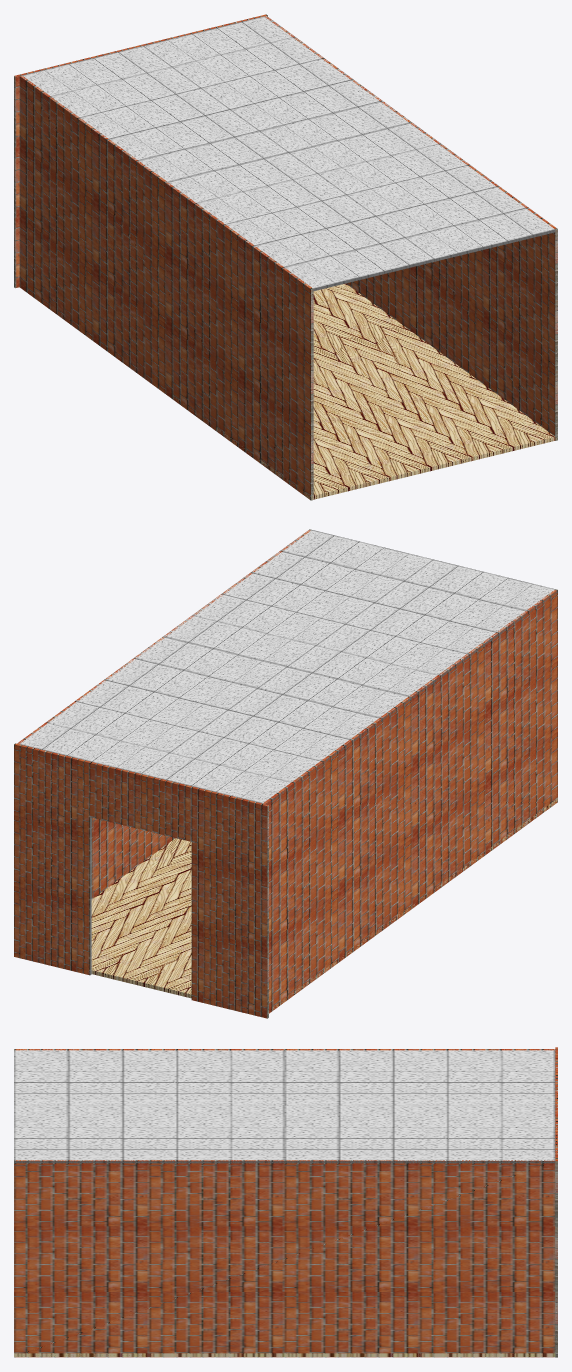
Rendered from Hallway_DoorWay.fbx.
3 renders of one model, top to bottom at view 1: azimuth 30°, elevation 25°; view 2: azimuth 150°, elevation 25°; view 3: azimuth 270°, elevation 25°, orthographic. The views are drawn at different scales.
Parts seen in each view (by area): view 1: pasted__Floor2, pasted__Wall1, pasted__Floor1, pasted__Wall2, pasted__Wall3; view 2: pasted__Floor2, pasted__Wall1, pasted__Wall3, pasted__Floor1, pasted__Wall2; view 3: pasted__Wall2, pasted__Floor2, pasted__Floor1, pasted__Wall1, pasted__Wall3.
Part boxes in pixels (bbox=[...]): pasted__Floor2: bbox=[21, 16, 557, 290]; pasted__Wall1: bbox=[19, 75, 313, 500]; pasted__Floor1: bbox=[23, 283, 557, 499]; pasted__Wall2: bbox=[264, 16, 557, 440]; pasted__Wall3: bbox=[14, 14, 267, 288]; pasted__Floor2: bbox=[19, 529, 557, 804]; pasted__Wall1: bbox=[263, 589, 557, 1013]; pasted__Wall3: bbox=[14, 743, 268, 1018]; pasted__Floor1: bbox=[91, 798, 557, 1011]; pasted__Wall2: bbox=[17, 529, 311, 898]; pasted__Wall2: bbox=[14, 1160, 555, 1357]; pasted__Floor2: bbox=[14, 1049, 555, 1163]; pasted__Floor1: bbox=[14, 1353, 555, 1356]; pasted__Wall1: bbox=[14, 1049, 555, 1050]; pasted__Wall3: bbox=[555, 1047, 557, 1357].
Bounding box in the file's own units: 0.05 × 0.04 × 0.1005.
4 materials, 3 textured.
